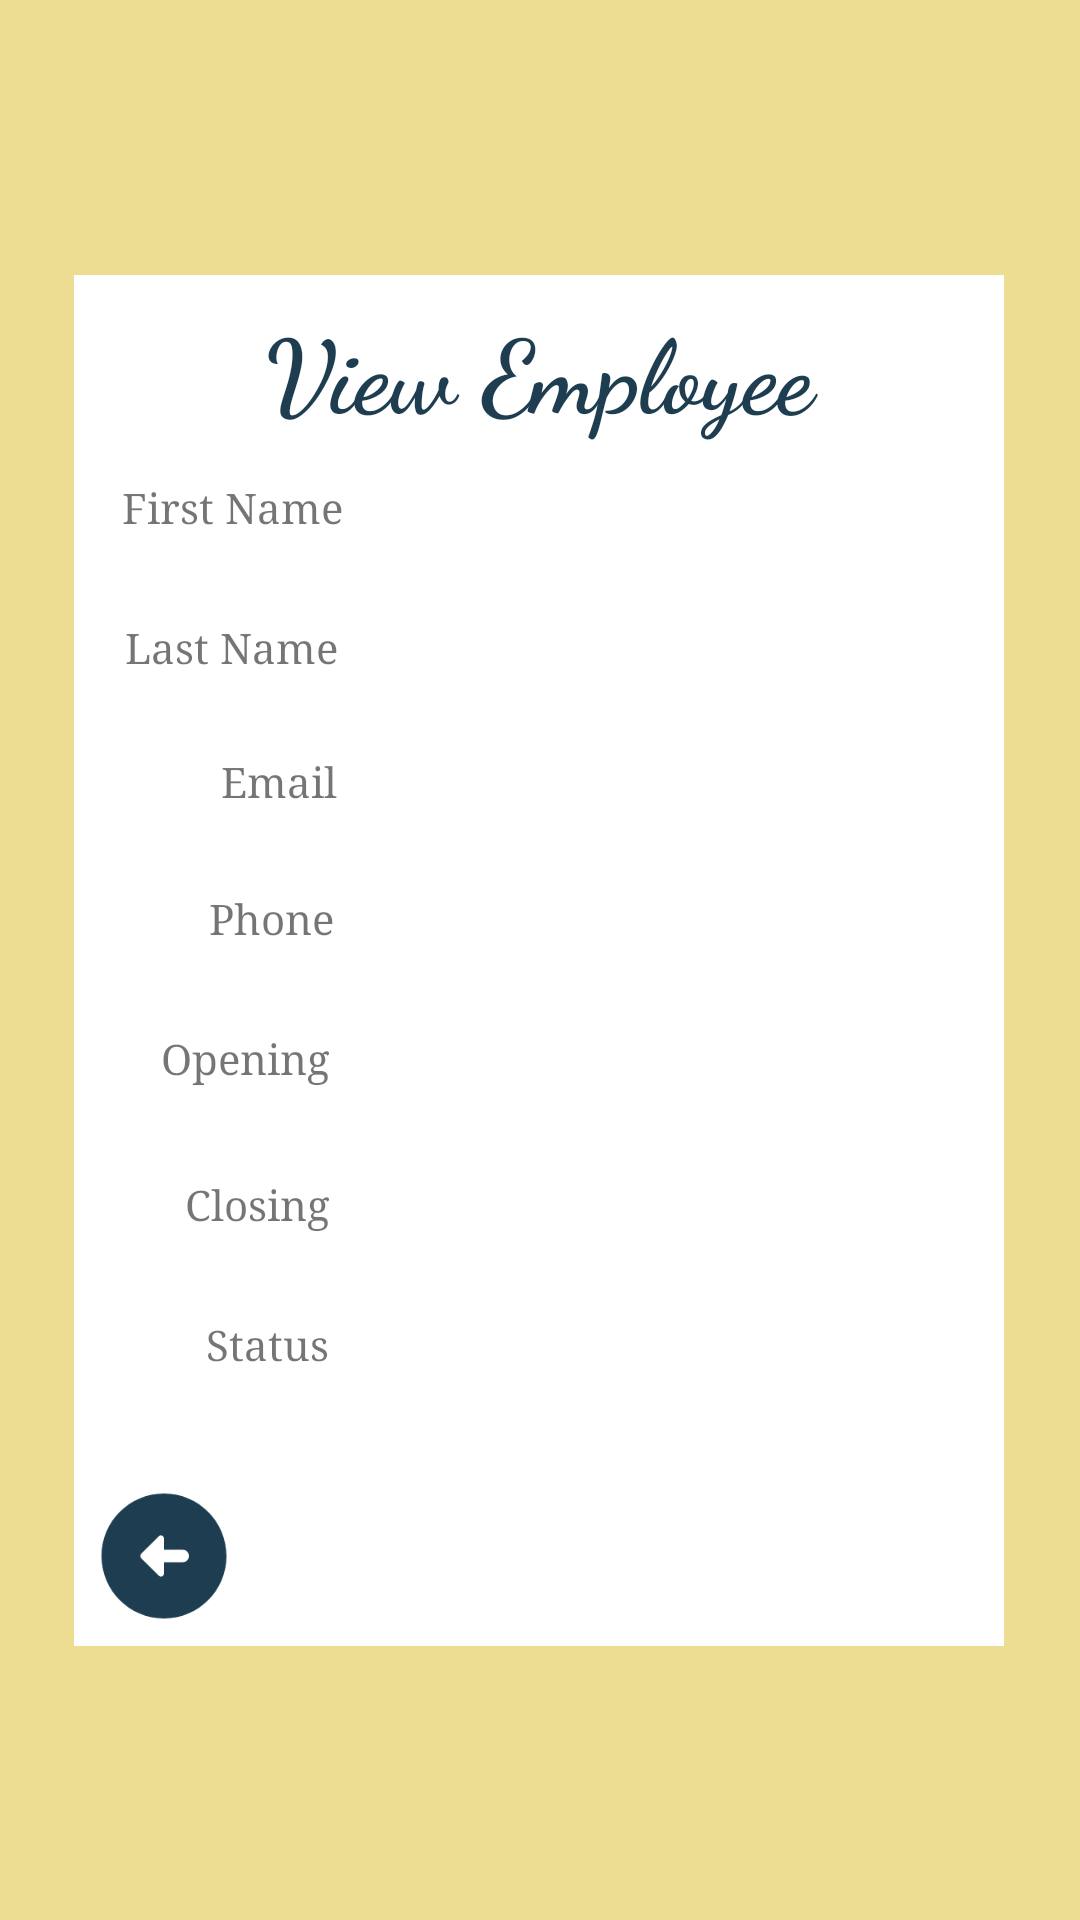

Where icons sit on this 1080*1920 app screen, as (x1, y1, x2, y2):
arrow circle left: (101, 1493, 227, 1619)
